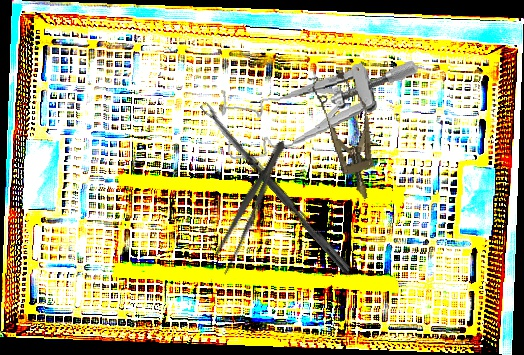Dressing Forceps: (207, 135, 294, 278)
Speculum: (216, 58, 425, 161), (307, 65, 390, 206)
Surgical Spoon: (199, 100, 354, 276)
